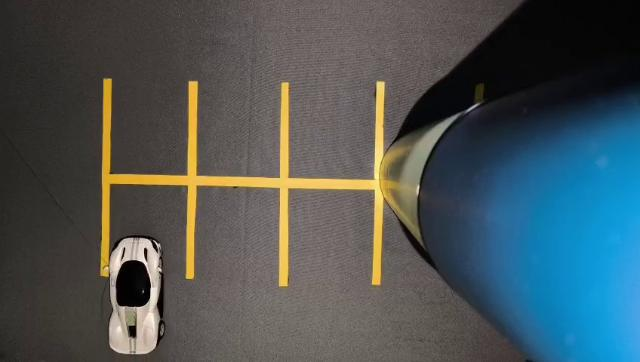toy_car: (89, 216, 209, 362)
